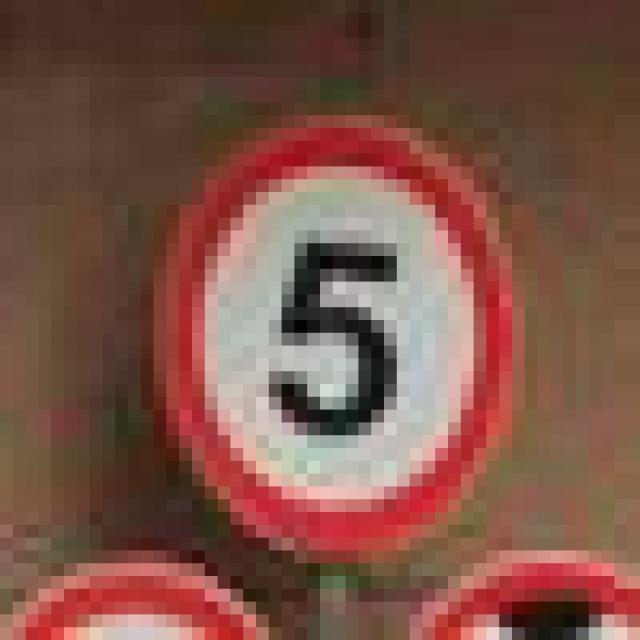speed_limit_20: (128, 90, 512, 550)
